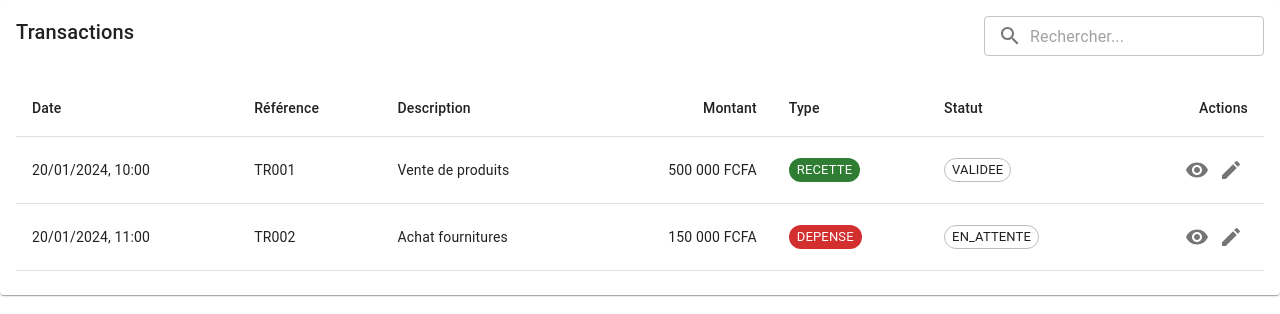
Test case: TransactionList › permet la recherche de transactions
Type "Vente" into the field with placeholder "Rechercher..." at [1147, 36], box [1030,16,1264,56]
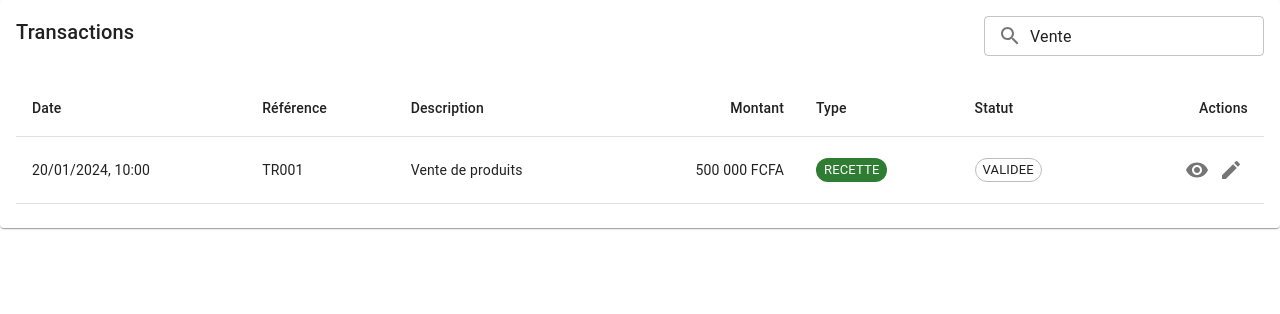
Expected: the text "Vente de produits" is shown, [395,136,615,204]
Expected: the text "Achat fournitures" is gone
